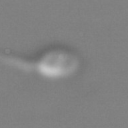abnormal: (1, 50, 37, 81)
